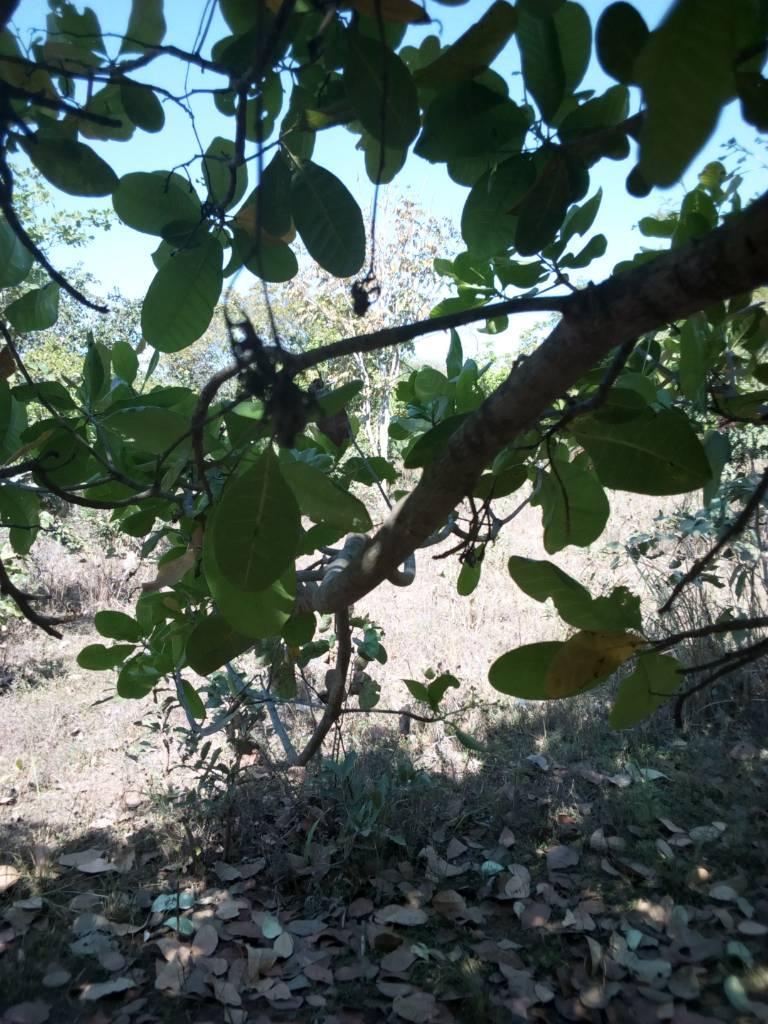Dessèchement des bourgeons: (424, 508, 511, 567)
